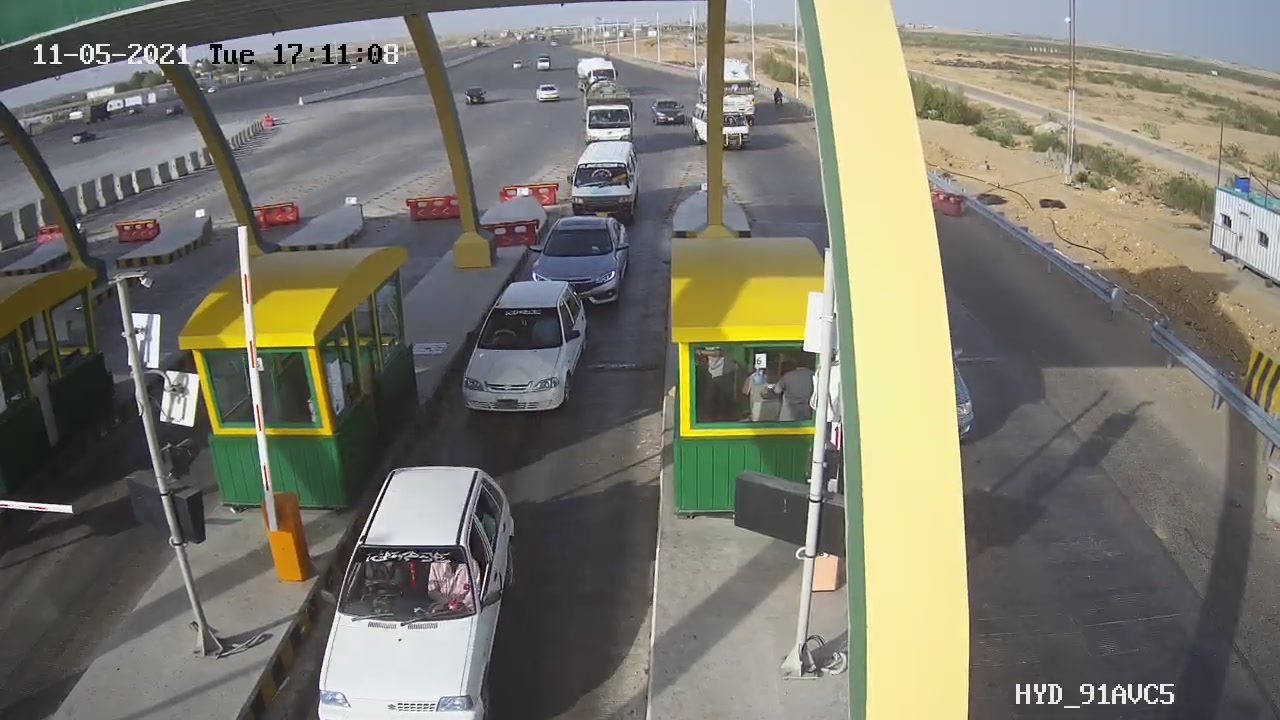F1: (444, 264, 613, 433), (508, 196, 655, 318)
